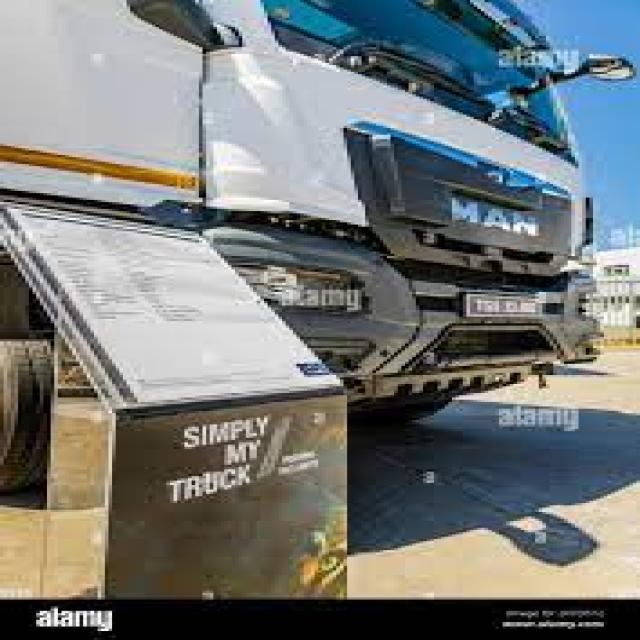Heavy Duty Truck: (137, 2, 611, 427)
